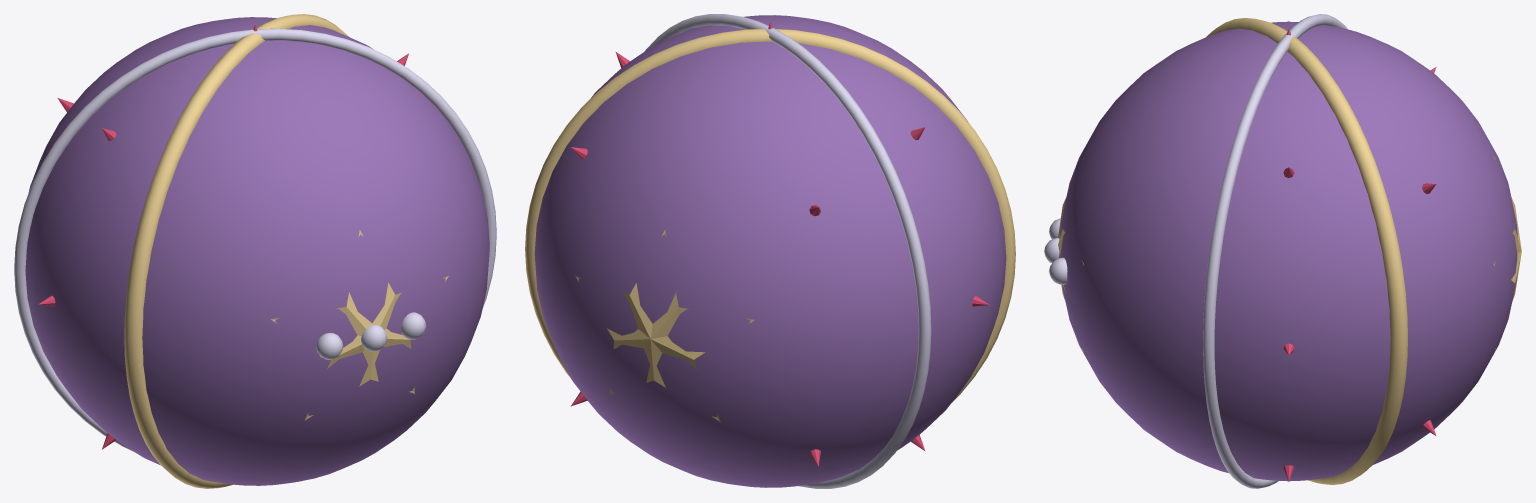
The model's file is rei_rally.glb.
3 views of the same model, side by side, from view 1: azimuth 30°, elevation 25°; view 2: azimuth 150°, elevation 25°; view 3: azimuth 270°, elevation 25° (orthographic). The views are drawn at different scales.
Parts seen in each view (by area): view 1: HiddenCore, HiddenBand, ReturnBand, ReturnStar, HiddenDot0, HiddenDot1, DangerSpikes, HiddenDot2; view 2: HiddenCore, ReturnBand, HiddenBand, ReturnStarBack, DangerSpikes; view 3: HiddenCore, ReturnBand, HiddenBand, DangerSpikes.
Boxes of the visible parts, x1,y1,x2,y2 form: HiddenCore: [25, 17, 489, 485]; HiddenBand: [14, 28, 496, 451]; ReturnBand: [124, 14, 348, 488]; ReturnStar: [271, 230, 448, 420]; HiddenDot0: [316, 333, 343, 359]; HiddenDot1: [361, 324, 387, 351]; DangerSpikes: [38, 24, 408, 449]; HiddenDot2: [401, 312, 426, 339]; HiddenCore: [534, 15, 1006, 487]; ReturnBand: [525, 29, 1015, 403]; HiddenBand: [644, 14, 931, 488]; ReturnStarBack: [575, 230, 754, 421]; DangerSpikes: [570, 22, 989, 466]; HiddenCore: [1060, 21, 1517, 481]; ReturnBand: [1206, 18, 1407, 484]; HiddenBand: [1203, 14, 1347, 488]; DangerSpikes: [1283, 21, 1436, 481].
Bounding box in the file's own units: 1.99 × 1.99 × 1.93.
